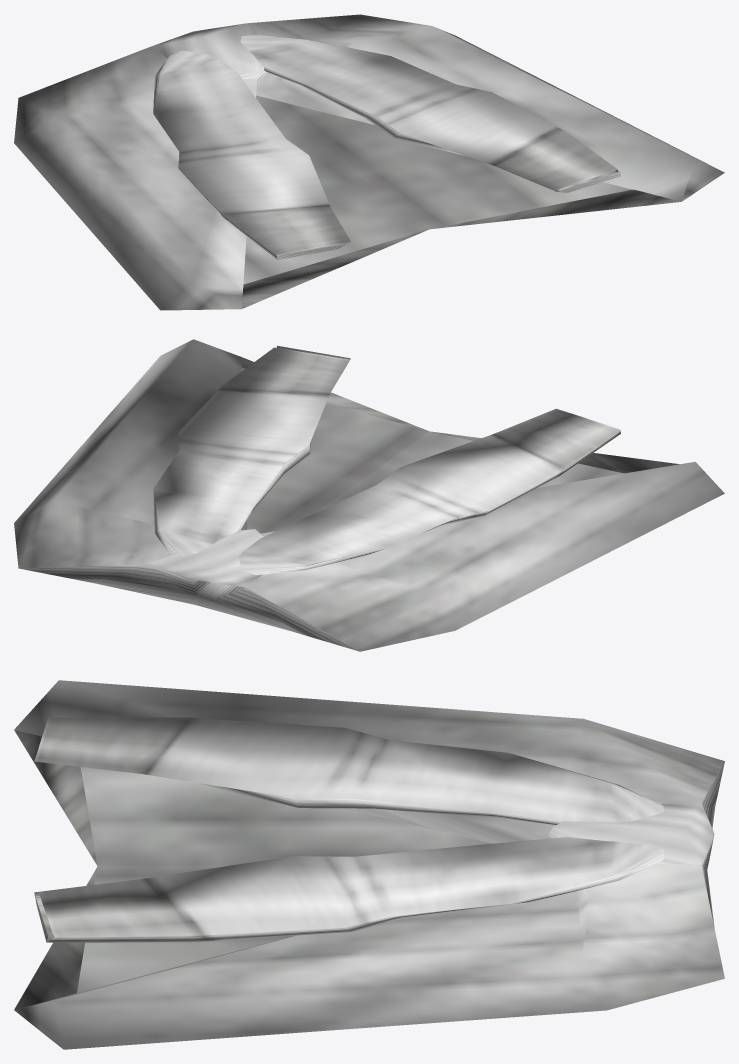
The model's file is JumperTied_Ground.fbx.
3 renders of one model, top to bottom at view 1: azimuth 30°, elevation 25°; view 2: azimuth 150°, elevation 25°; view 3: azimuth 270°, elevation 25°, orthographic. The views are drawn at different scales.
Parts seen in each view (by area): view 1: SweaterTied_Ground; view 2: SweaterTied_Ground; view 3: SweaterTied_Ground.
Boxes of the visible parts, x1,y1,x2,y2 form: SweaterTied_Ground: [14, 14, 724, 310]; SweaterTied_Ground: [14, 339, 724, 651]; SweaterTied_Ground: [14, 680, 724, 1049].
Size of the model in its own units: 0.311 by 0.0181 by 0.2598.
